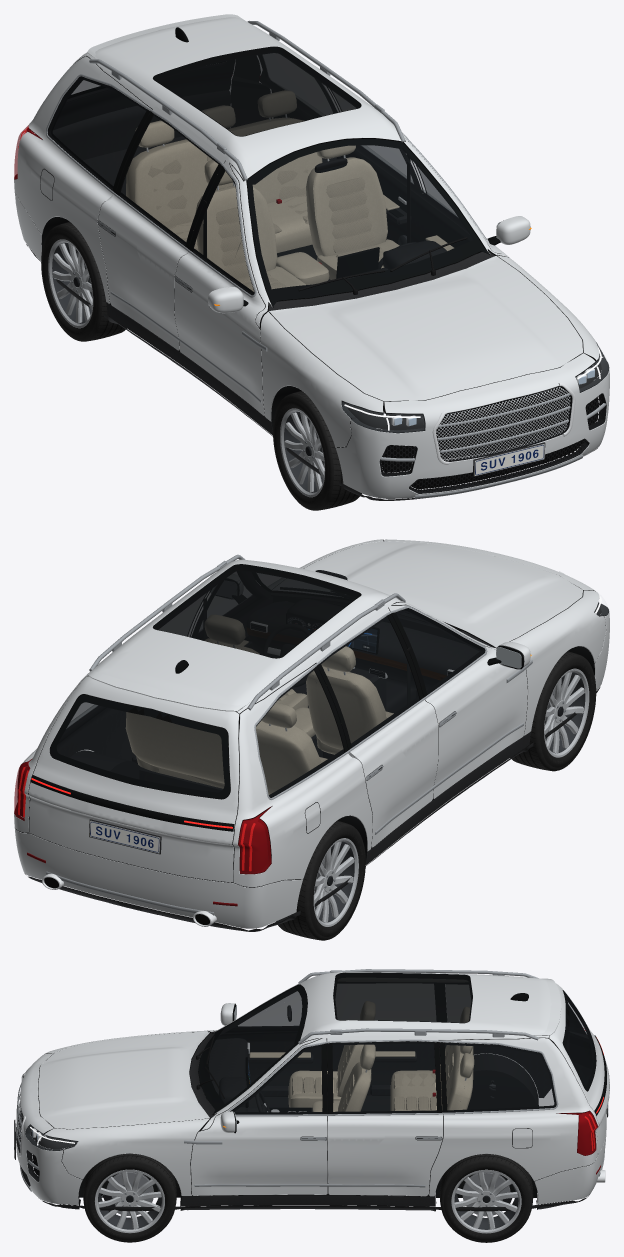
The model's file is luxury-suv.glb.
The picture shows the model from 3 angles, top to bottom: view 1: azimuth 30°, elevation 25°; view 2: azimuth 150°, elevation 25°; view 3: azimuth 270°, elevation 25°; orthographic projection. The views are drawn at different scales.
Visible parts, largest first — view 1: Body, Wheel_FR, Wheel_RR; view 2: Body, Wheel_RR, Wheel_FR, Steering_Wheel; view 3: Body, Wheel_RL, Wheel_FL.
Part boxes in pixels (x1,y1,x2,y2): Body: (14, 14, 609, 500); Wheel_FR: (273, 390, 361, 510); Wheel_RR: (41, 221, 126, 341); Body: (14, 539, 609, 931); Wheel_RR: (276, 820, 365, 940); Wheel_FR: (510, 651, 596, 771); Steering_Wheel: (263, 624, 310, 687); Body: (14, 969, 609, 1211); Wheel_RL: (439, 1154, 533, 1242); Wheel_FL: (83, 1153, 176, 1242).
Bounding box in the file's own units: 2.35 × 1.85 × 4.96.
61 materials, 13 textured.
